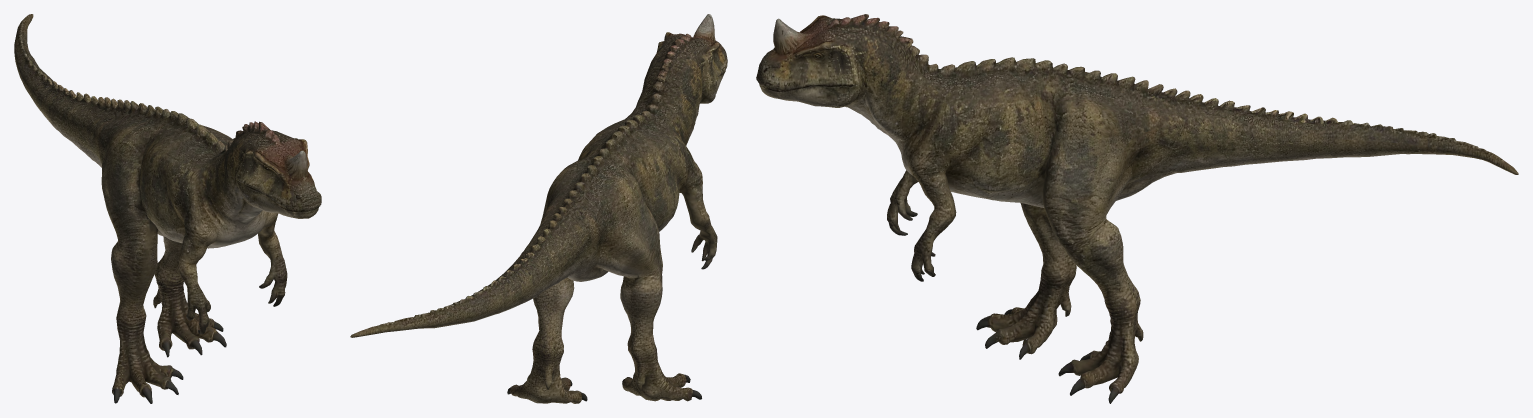
The model's file is ceratosaurus.glb.
The picture shows the model from 3 angles, left to right: view 1: azimuth 30°, elevation 25°; view 2: azimuth 150°, elevation 25°; view 3: azimuth 270°, elevation 25°; orthographic projection. The views are drawn at different scales.
Parts seen in each view (by area): view 1: dino; view 2: dino; view 3: dino.
Boxes of the visible parts, bbox=[...] form: dino: bbox=[14, 14, 321, 403]; dino: bbox=[350, 14, 727, 403]; dino: bbox=[756, 14, 1518, 403].
Bounding box in the file's own units: 1.62 × 3.07 × 6.
Materials: 1 (1 with a texture image).
